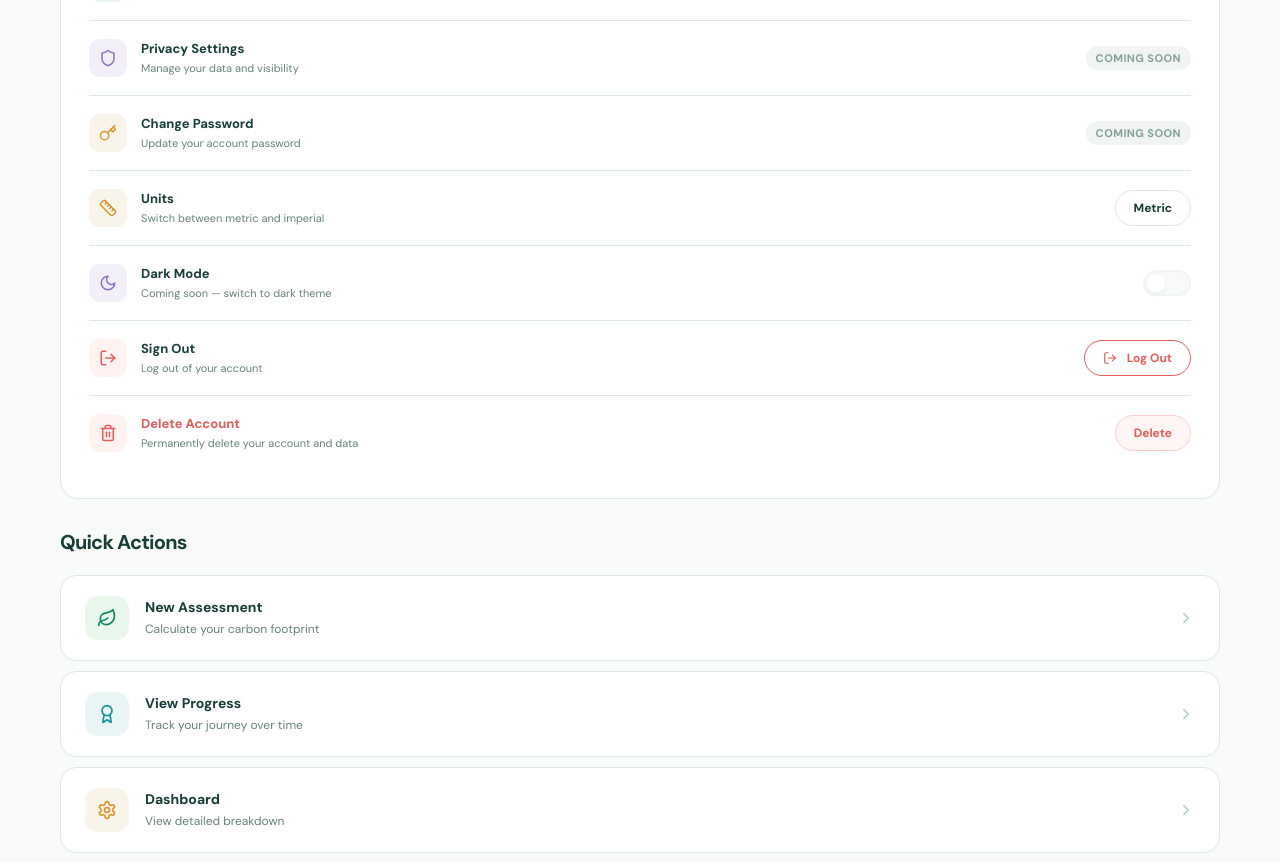
Test: ProfilePage › opens delete account confirmation dialog with warning
(page scrolled)
Click the button "Delete" at (1153, 433), box x1=1115 y1=415 x2=1191 y2=451
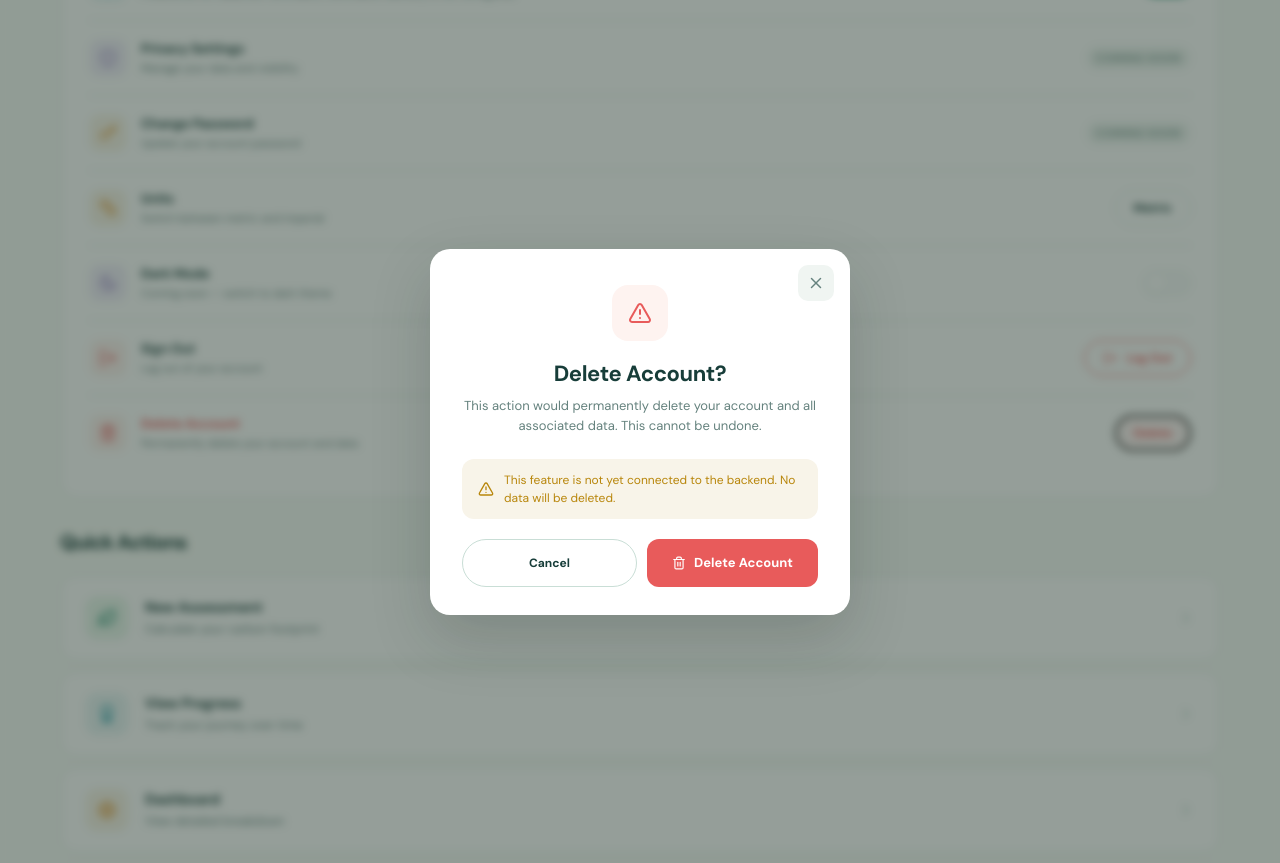
Expected: the dialog is shown, x1=430 y1=249 x2=850 y2=615
Expected: the text "This feature is not yet connected to the backend" is shown, x1=504 y1=472 x2=795 y2=506
Note: Can cancel
Click the button "Cancel" at (550, 563), box x1=462 y1=539 x2=637 y2=587
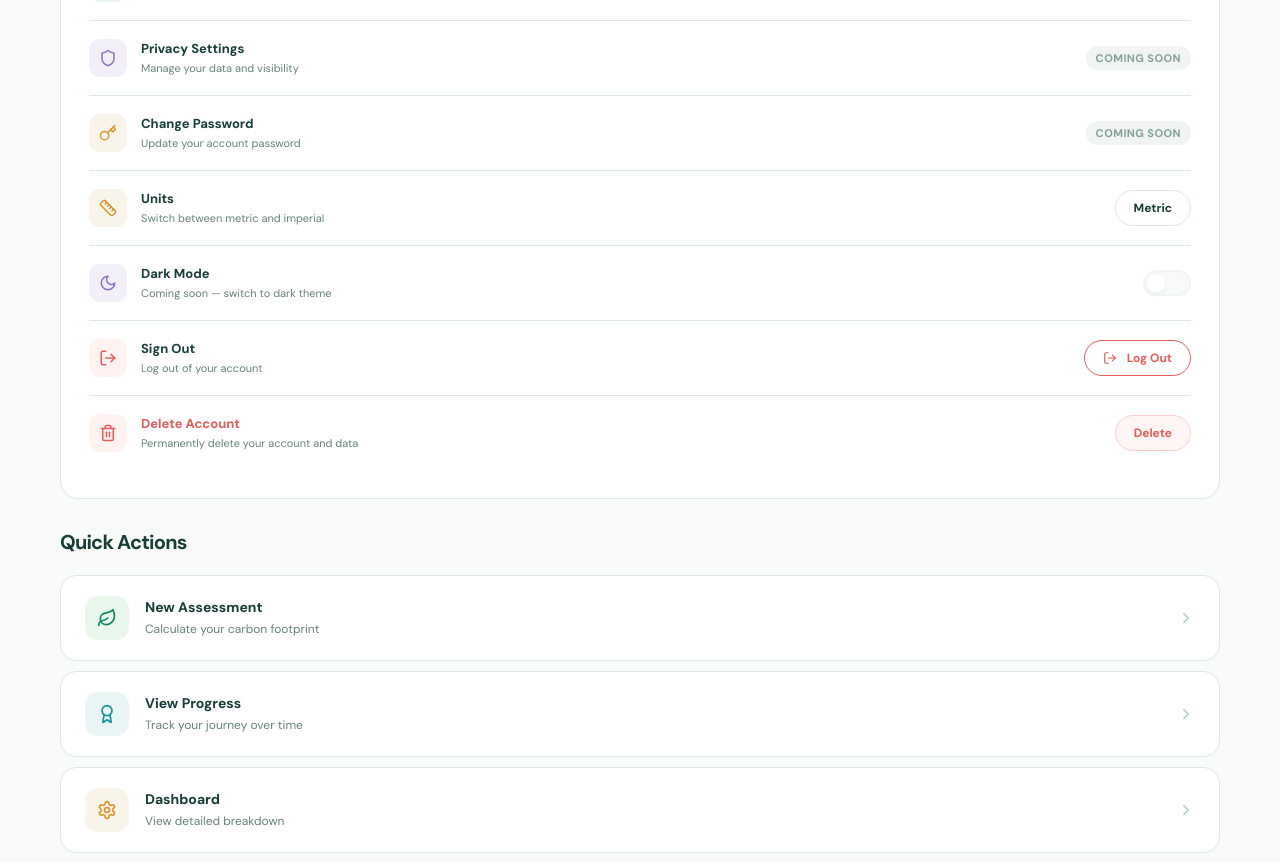
Expected: the dialog is gone
